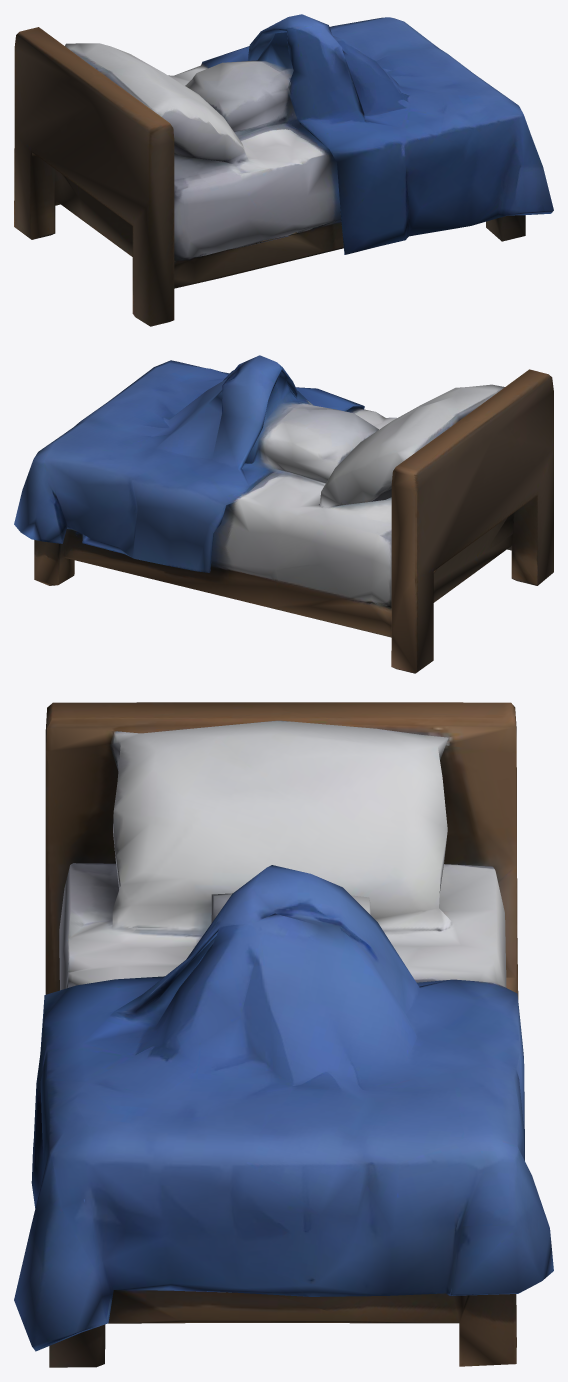
The model's file is krovat.fbx.
The picture shows the model from 3 angles, top to bottom: view 1: azimuth 30°, elevation 25°; view 2: azimuth 150°, elevation 25°; view 3: azimuth 270°, elevation 25°; orthographic projection. The views are drawn at different scales.
Parts seen in each view (by area): view 1: meshes[0]; view 2: meshes[0]; view 3: meshes[0].
Part boxes in pixels (left/top/right/bottom): meshes[0]: left=14, top=14, right=553, bottom=326; meshes[0]: left=14, top=355, right=553, bottom=673; meshes[0]: left=14, top=702, right=553, bottom=1367.
Size of the model in its own units: 1 by 0.4907 by 0.6684.
1 material, 1 textured.
